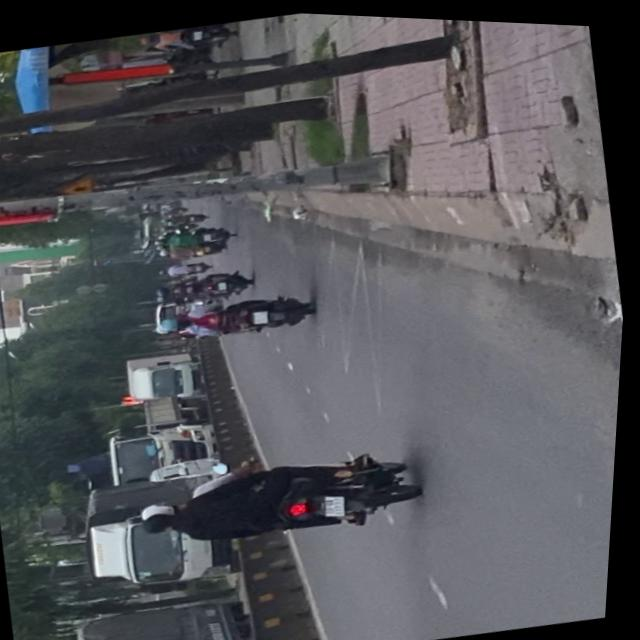helmet: (145, 497, 187, 522)
licenseplate: (134, 429, 434, 565)
motorcyclist: (141, 510, 184, 537)
nohelmet: (326, 490, 351, 514)
